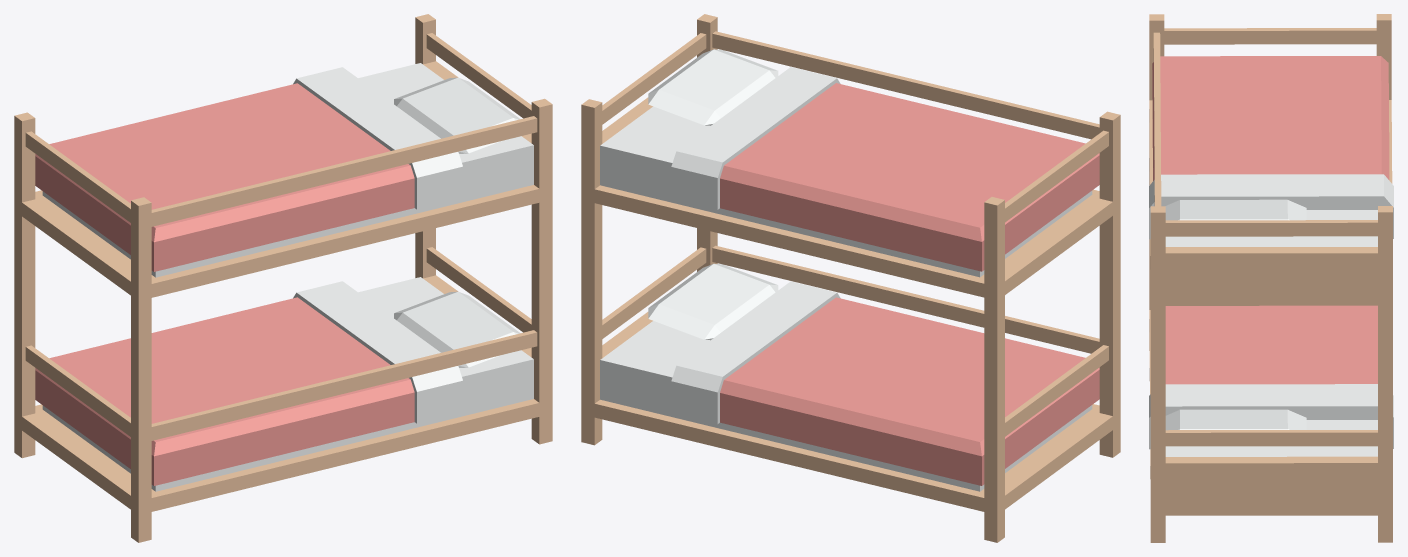
File: bunk_bed.fbx
3 views of the same model, side by side, from view 1: azimuth 30°, elevation 25°; view 2: azimuth 150°, elevation 25°; view 3: azimuth 270°, elevation 25° (orthographic). The views are drawn at different scales.
Parts seen in each view (by area): view 1: bedBunk, coverTop, coverBottom, pillowTop, pillowBottom; view 2: bedBunk, coverTop, coverBottom, pillowTop, pillowBottom; view 3: bedBunk, coverTop, coverBottom, pillowTop, pillowBottom.
Part boxes in pixels (left/top/right/bottom): bedBunk: left=14, top=14, right=552, bottom=542; coverTop: left=35, top=67, right=462, bottom=271; coverBottom: left=35, top=281, right=462, bottom=485; pillowTop: left=394, top=77, right=520, bottom=153; pillowBottom: left=394, top=291, right=520, bottom=367; bedBunk: left=581, top=14, right=1120, bottom=542; coverTop: left=671, top=67, right=1099, bottom=271; coverBottom: left=671, top=281, right=1099, bottom=485; pillowTop: left=648, top=49, right=778, bottom=125; pillowBottom: left=648, top=263, right=778, bottom=340; bedBunk: left=1149, top=14, right=1392, bottom=542; coverTop: left=1149, top=56, right=1393, bottom=239; coverBottom: left=1149, top=305, right=1393, bottom=449; pillowTop: left=1165, top=199, right=1306, bottom=220; pillowBottom: left=1165, top=409, right=1306, bottom=430.
Bounding box in the file's own units: 10.51 × 8.15 × 5.48.
